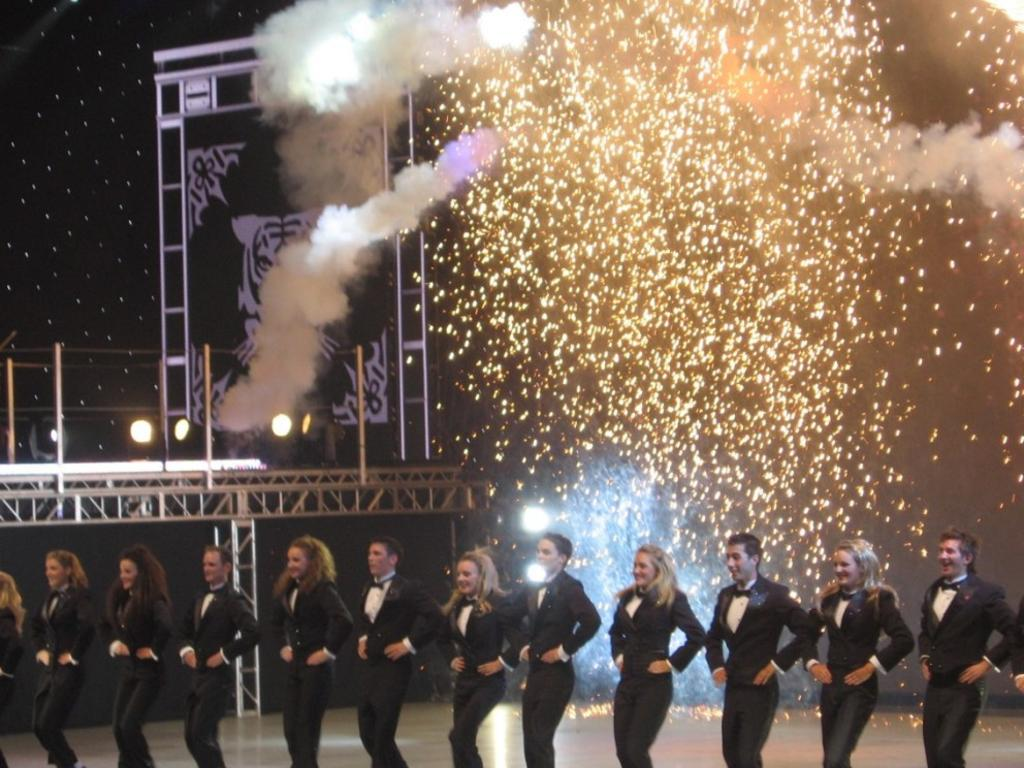face: (832, 552, 858, 585), (938, 539, 962, 574), (726, 545, 750, 579), (535, 540, 559, 573), (632, 554, 653, 585), (456, 562, 476, 592), (287, 548, 306, 577), (202, 553, 221, 580), (368, 545, 386, 573), (119, 560, 136, 589), (46, 559, 64, 586)
